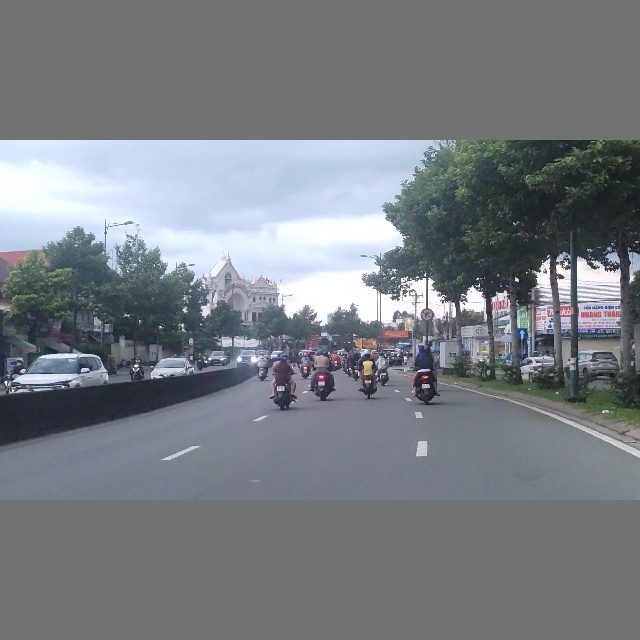I.407a: (517, 328, 528, 339)
P.123b: (421, 308, 434, 321)
